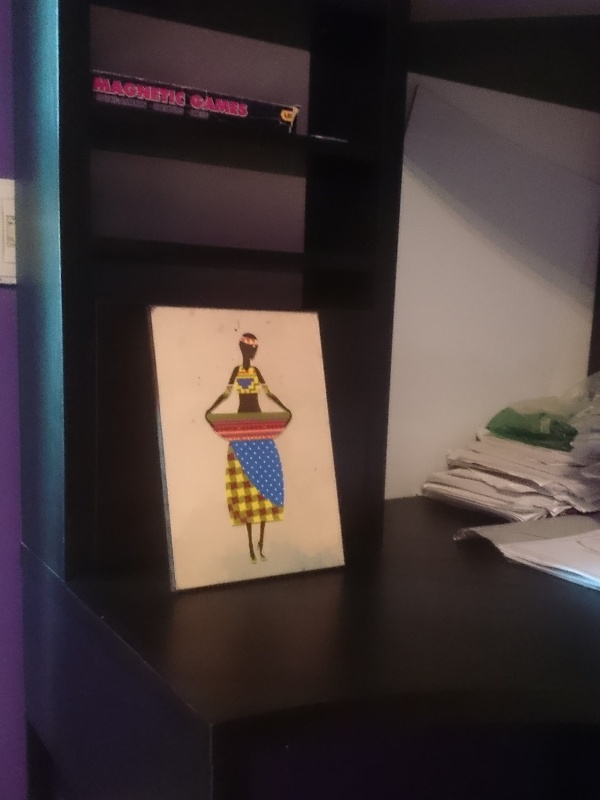my image: (148, 308, 338, 589)
